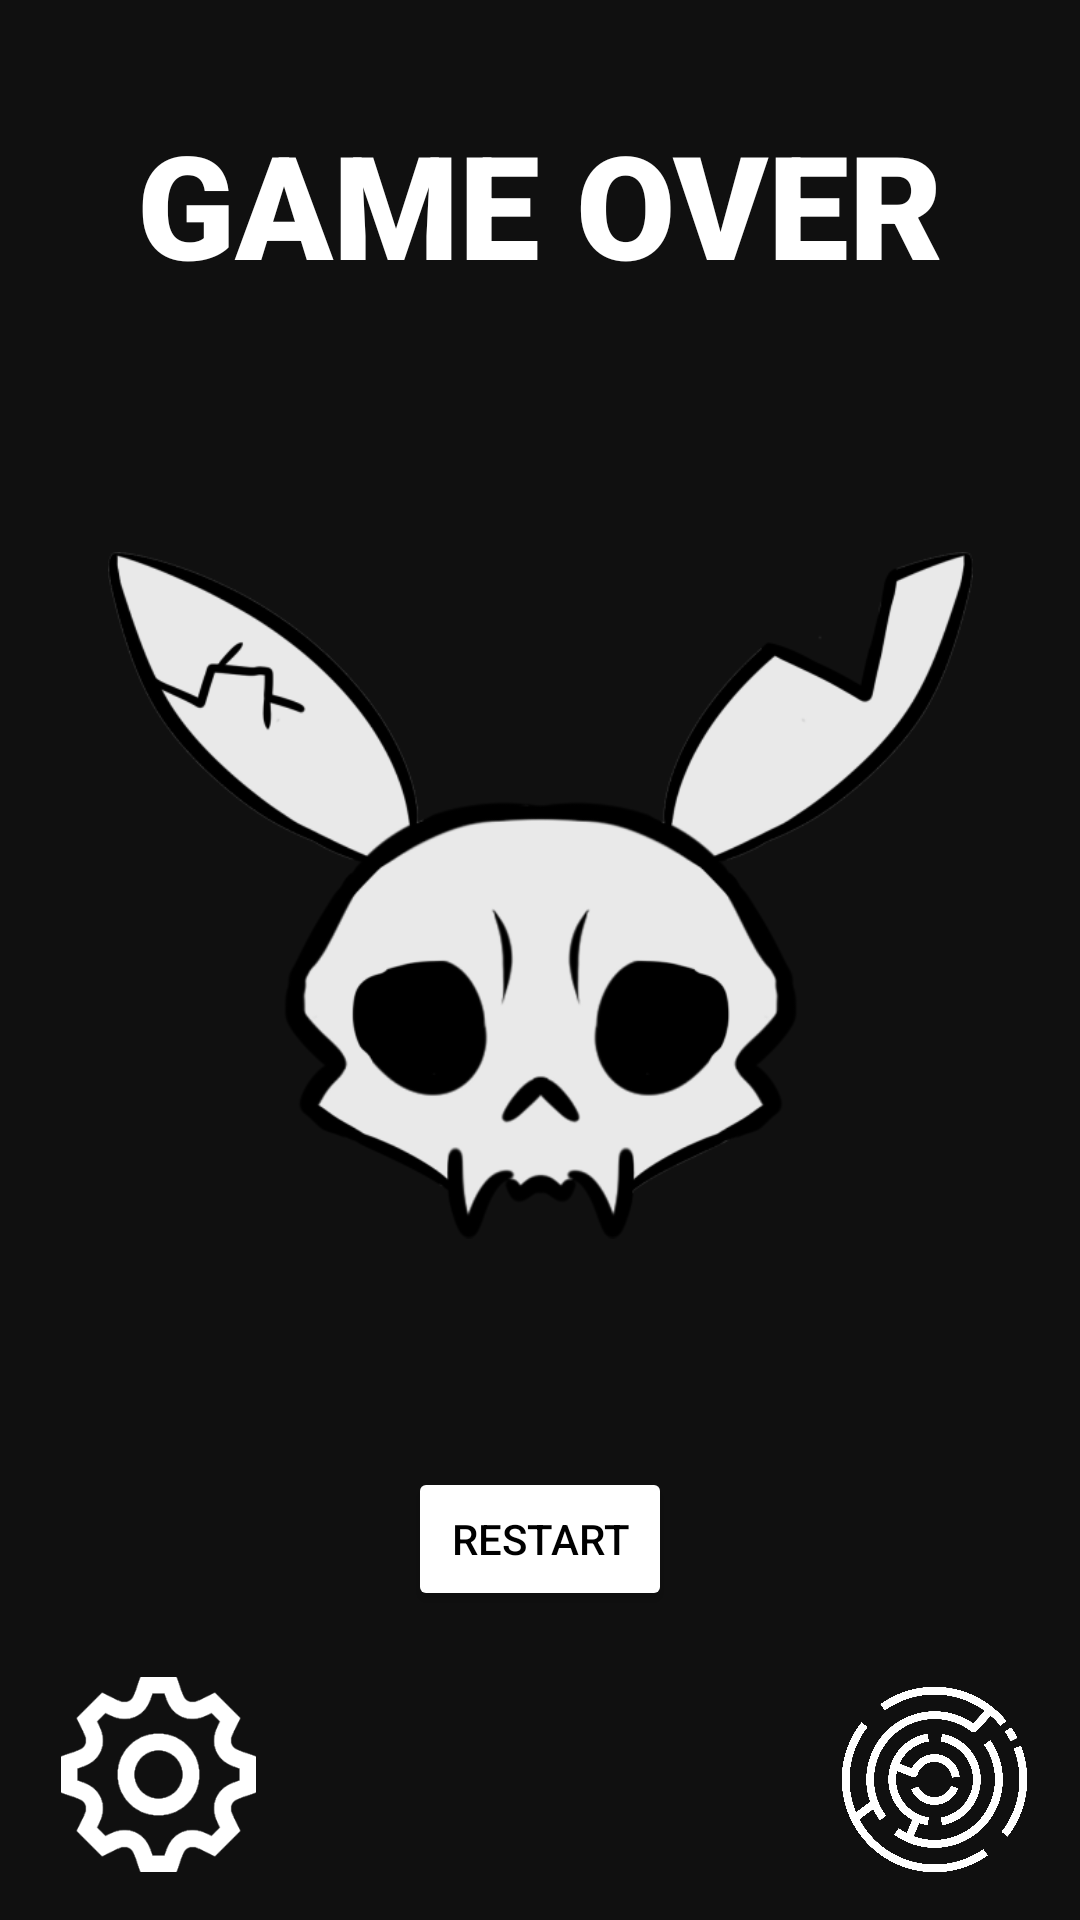

Locate icon controls on the screen. Image size 1080 × 1920, boxes as (x1, y1, x2, y2).
levelselect: (842, 1687, 1027, 1872)
settings: (61, 1677, 256, 1872)
